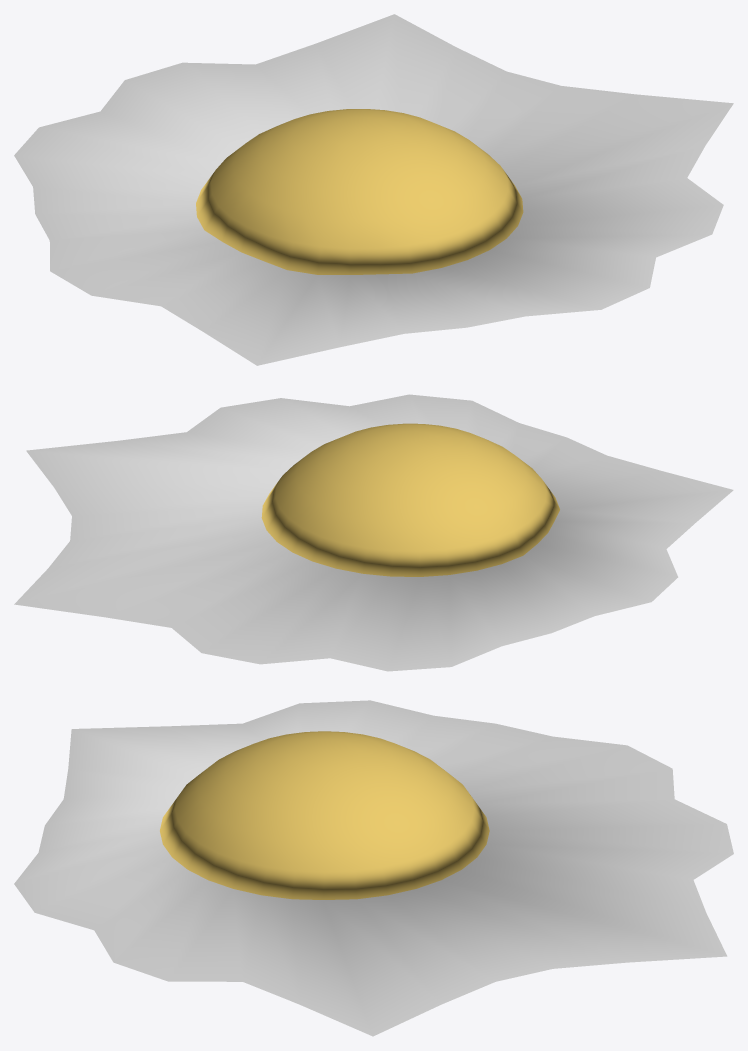
The model's file is egg.gltf.
The picture shows the model from 3 angles, top to bottom: view 1: azimuth 30°, elevation 25°; view 2: azimuth 150°, elevation 25°; view 3: azimuth 270°, elevation 25°; orthographic projection. The views are drawn at different scales.
Parts seen in each view (by area): view 1: Circle; view 2: Circle; view 3: Circle.
Part boxes in pixels (x1=…): Circle: x1=14, y1=14, x2=733, y2=365; Circle: x1=14, y1=394, x2=733, y2=671; Circle: x1=14, y1=700, x2=733, y2=1036.
Size of the model in its own units: 1.69 by 0.2097 by 1.53.
